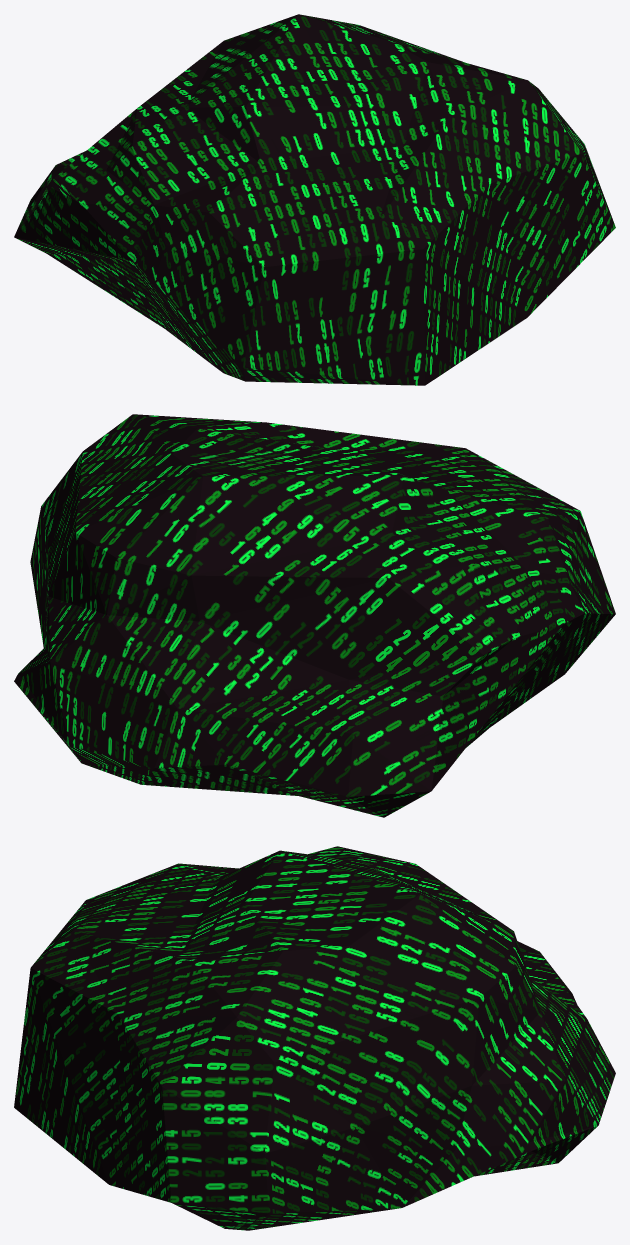
File: Rock1_code.fbx
The picture shows the model from 3 angles, top to bottom: view 1: azimuth 30°, elevation 25°; view 2: azimuth 150°, elevation 25°; view 3: azimuth 270°, elevation 25°; orthographic projection. The views are drawn at different scales.
Parts seen in each view (by area): view 1: Rock1_code; view 2: Rock1_code; view 3: Rock1_code.
Boxes of the visible parts, left/top/right/bottom form: Rock1_code: left=14, top=14, right=615, bottom=385; Rock1_code: left=14, top=414, right=615, bottom=817; Rock1_code: left=14, top=846, right=615, bottom=1230.
Bounding box in the file's own units: 1.17 × 0.534 × 1.17.
1 material, 1 textured.
